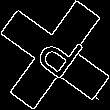P_SW: (25, 24, 85, 86)
